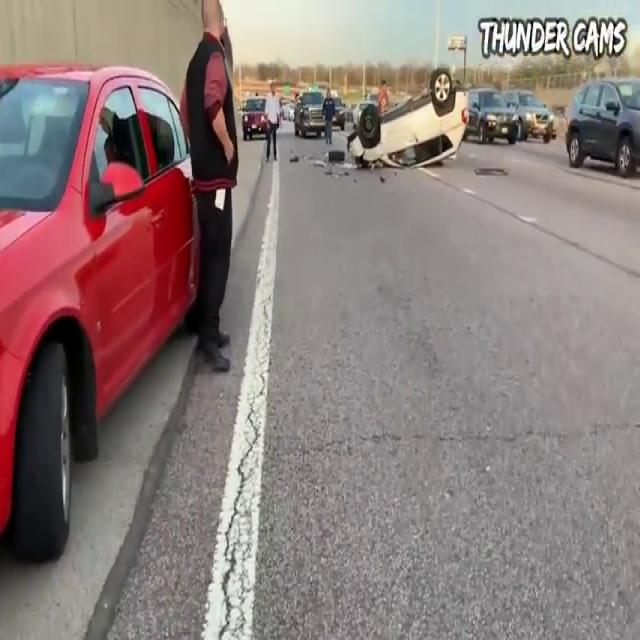accident: (334, 68, 476, 178)
